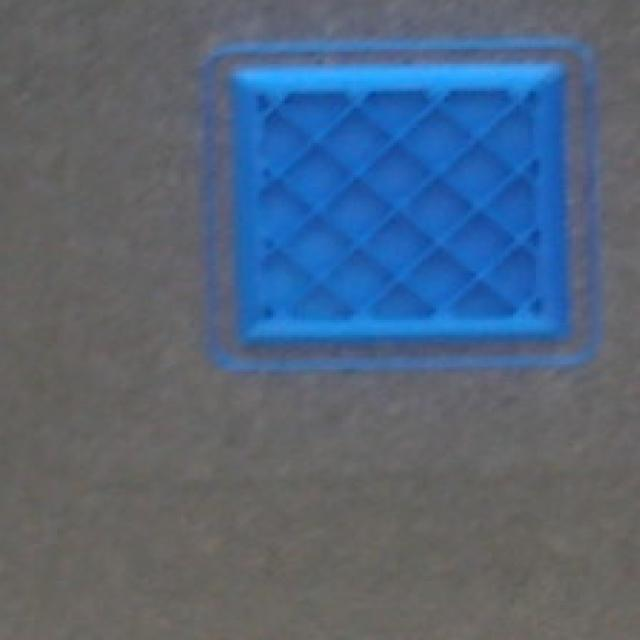noMistake: (215, 55, 578, 347)
